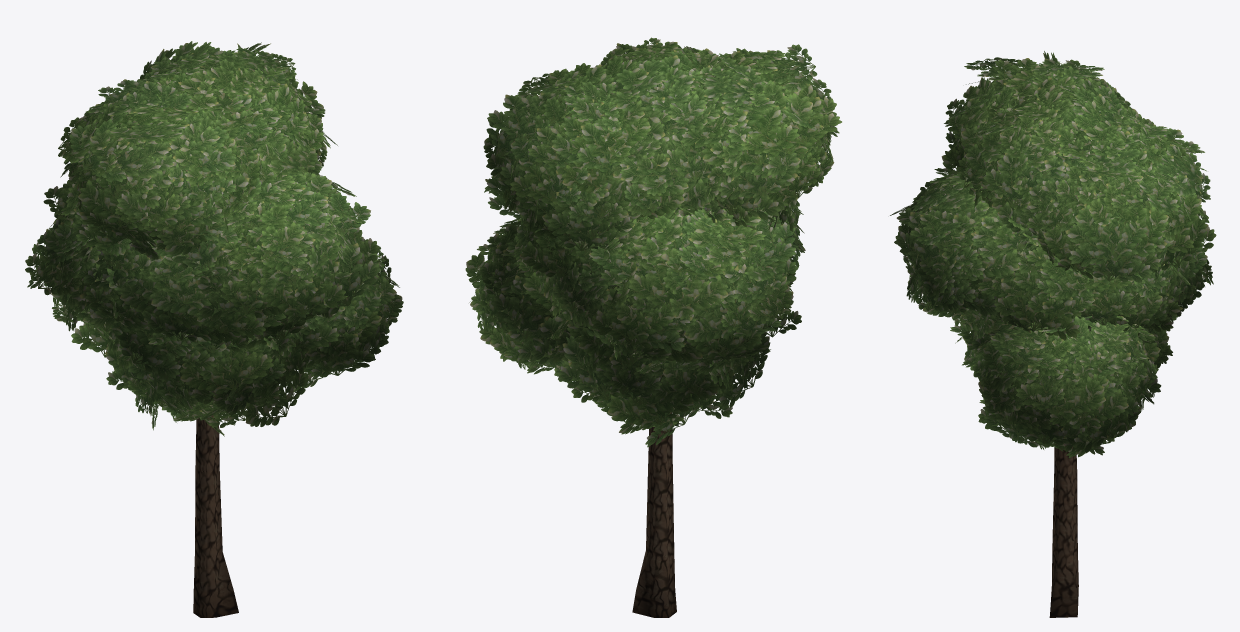
File: sundari_a_lod1.glb
3 views of the same model, side by side, from view 1: azimuth 30°, elevation 25°; view 2: azimuth 150°, elevation 25°; view 3: azimuth 270°, elevation 25° (orthographic). The views are drawn at different scales.
Parts seen in each view (by area): view 1: leaves, wood; view 2: leaves, wood; view 3: leaves, wood.
Boxes of the visible parts, <box> form: leaves: <box>25,41,403,436</box>; wood: <box>193,415,238,617</box>; leaves: <box>465,37,841,447</box>; wood: <box>632,412,676,617</box>; leaves: <box>890,51,1216,457</box>; wood: <box>1049,443,1078,617</box>.
Bounding box in the file's own units: 7.89 × 12.29 × 7.01.
2 materials, 2 textured.
